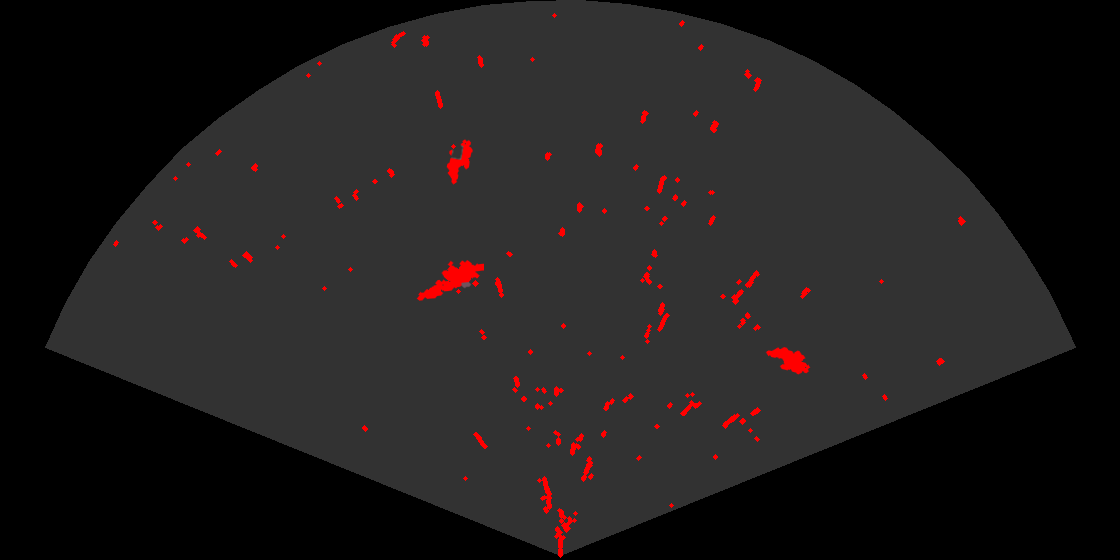AUV: (764, 345, 812, 376), (445, 138, 474, 186)
frogman: (415, 259, 484, 302)
